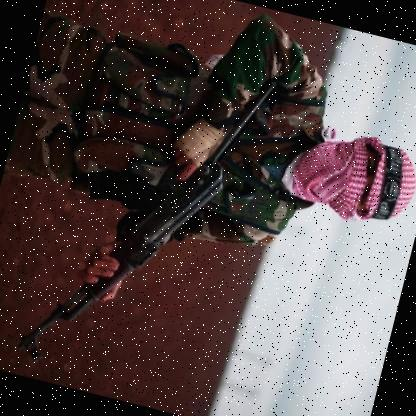rifle: (12, 35, 280, 400)
